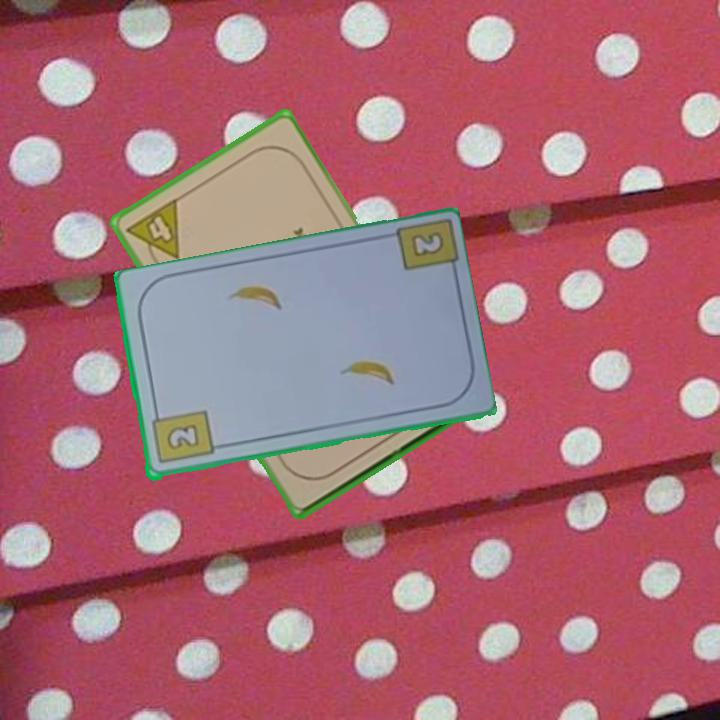2b: (147, 406, 216, 467), (411, 231, 444, 258)
4p: (122, 194, 183, 273)
